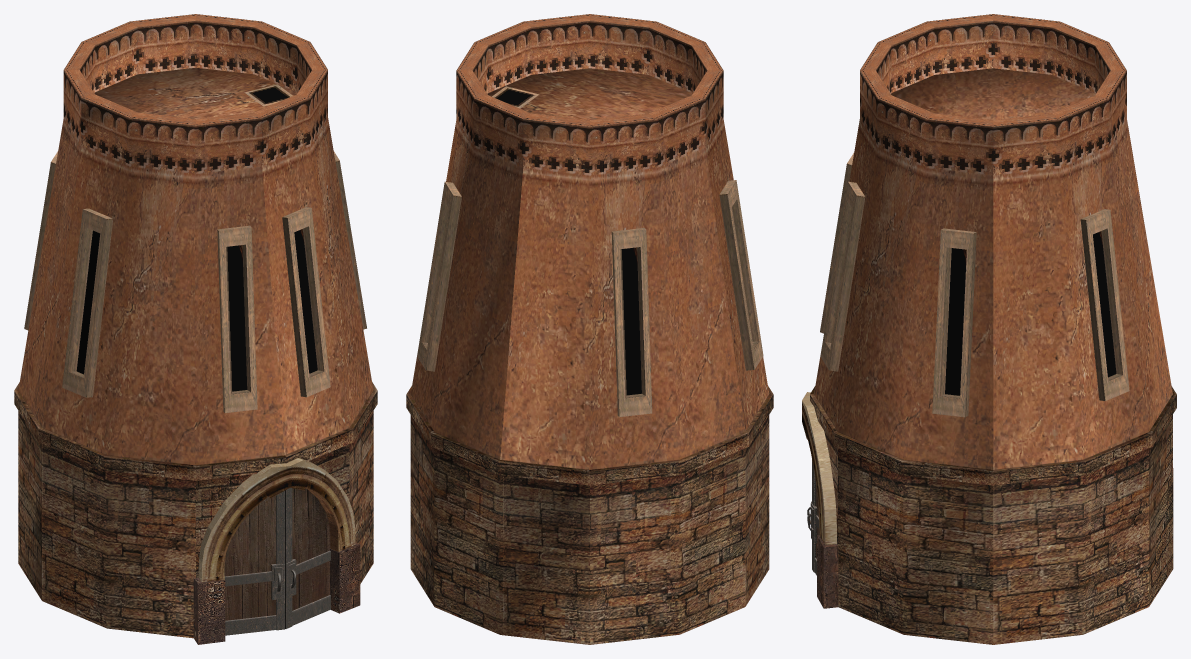
File: IFRTa.glb
The picture shows the model from 3 angles, left to right: view 1: azimuth 30°, elevation 25°; view 2: azimuth 150°, elevation 25°; view 3: azimuth 270°, elevation 25°; orthographic projection.
Visible parts, largest first — view 1: _IFRTa; view 2: _IFRTa; view 3: _IFRTa.
Part boxes in pixels (x1,y1,x2,y2): _IFRTa: (14, 14, 377, 644); _IFRTa: (406, 14, 773, 644); _IFRTa: (802, 14, 1176, 644).
Size of the model in its own units: 12.27 by 18.4 by 12.53.
Materials: 4 (3 with a texture image).
